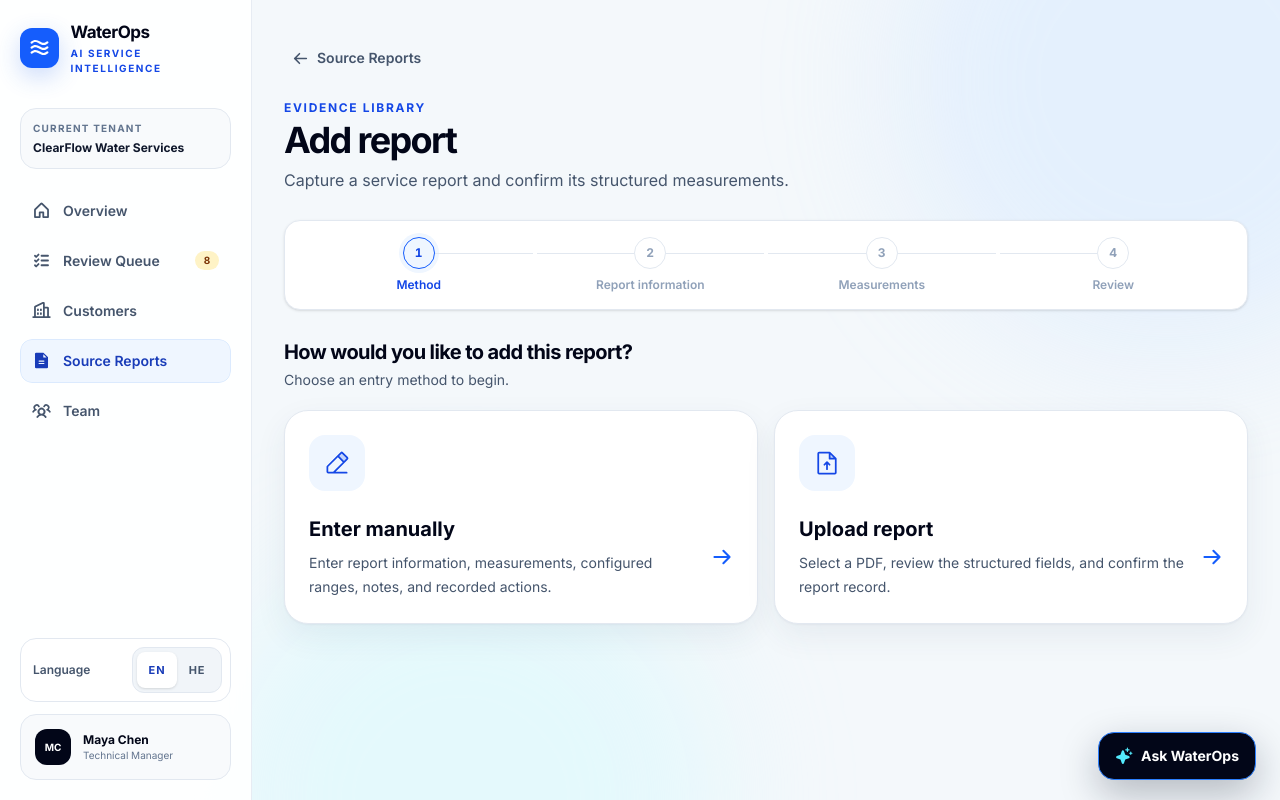
Test: WaterOps production workspace › localizes the new report workflow in Hebrew
Expected: the heading "Add report" is shown, x1=284 y1=118 x2=456 y2=162
Click the button with aria-label "Switch to Hebrew": [197, 670] box x1=177 y1=652 x2=217 y2=688
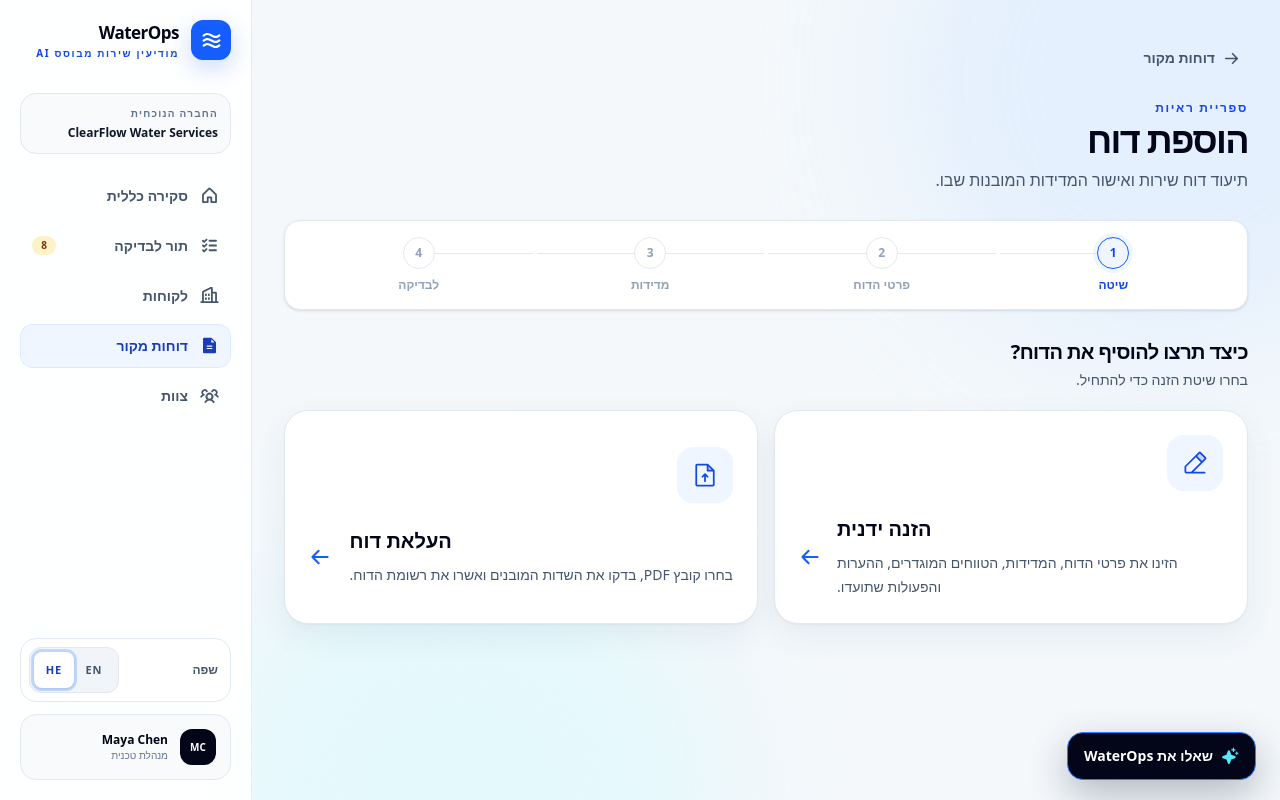
Expected: the heading "הוספת דוח" is shown, x1=1087 y1=115 x2=1248 y2=164
Click the button "הזנה ידנית": [1195, 463] box x1=774 y1=410 x2=1248 y2=624
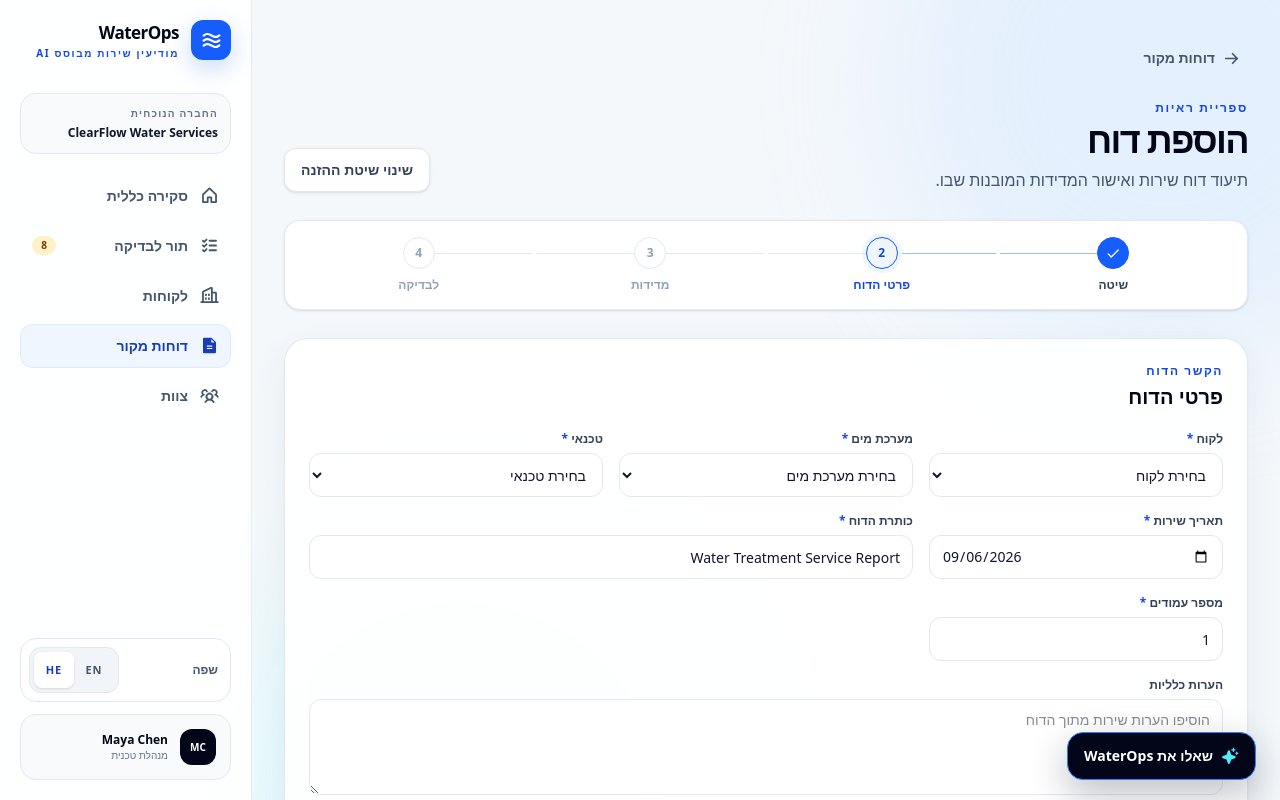
Expected: the heading "פרטי הדוח" is shown, x1=1128 y1=383 x2=1223 y2=410
Expected: the dropdown labelled "לקוח *" is shown, x1=929 y1=453 x2=1223 y2=497
